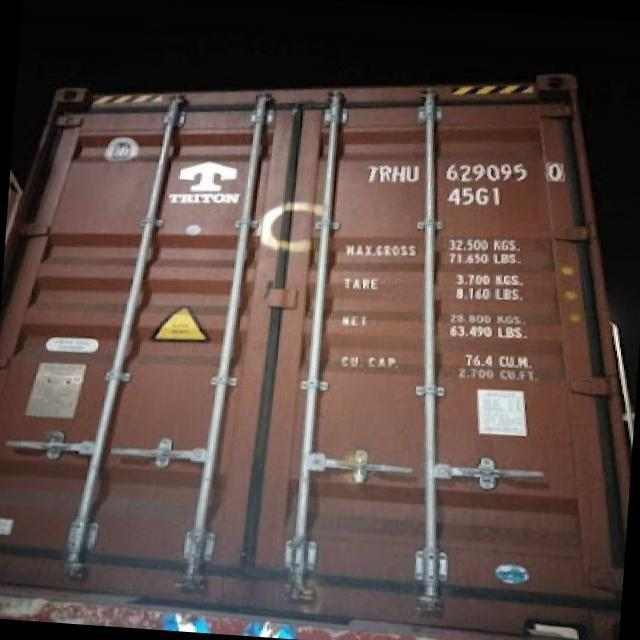ISO: (448, 185, 502, 209)
container_number: (361, 158, 568, 182)
